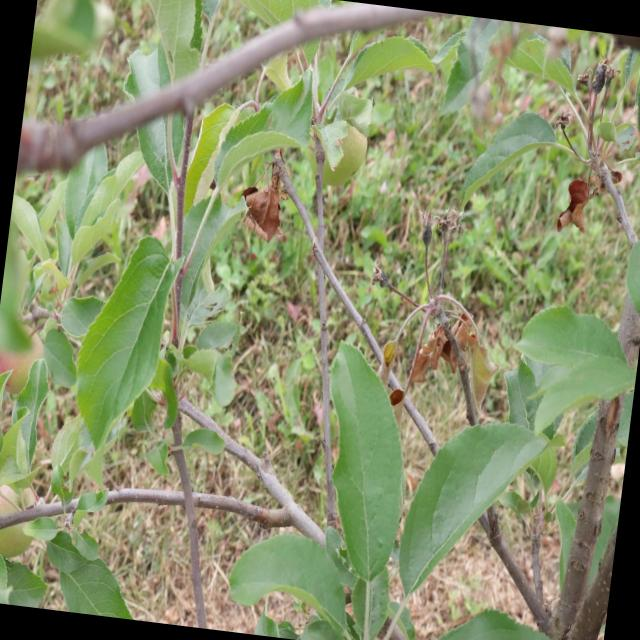-FireBlight-: (369, 291, 496, 419), (239, 158, 288, 243), (558, 179, 589, 233)
